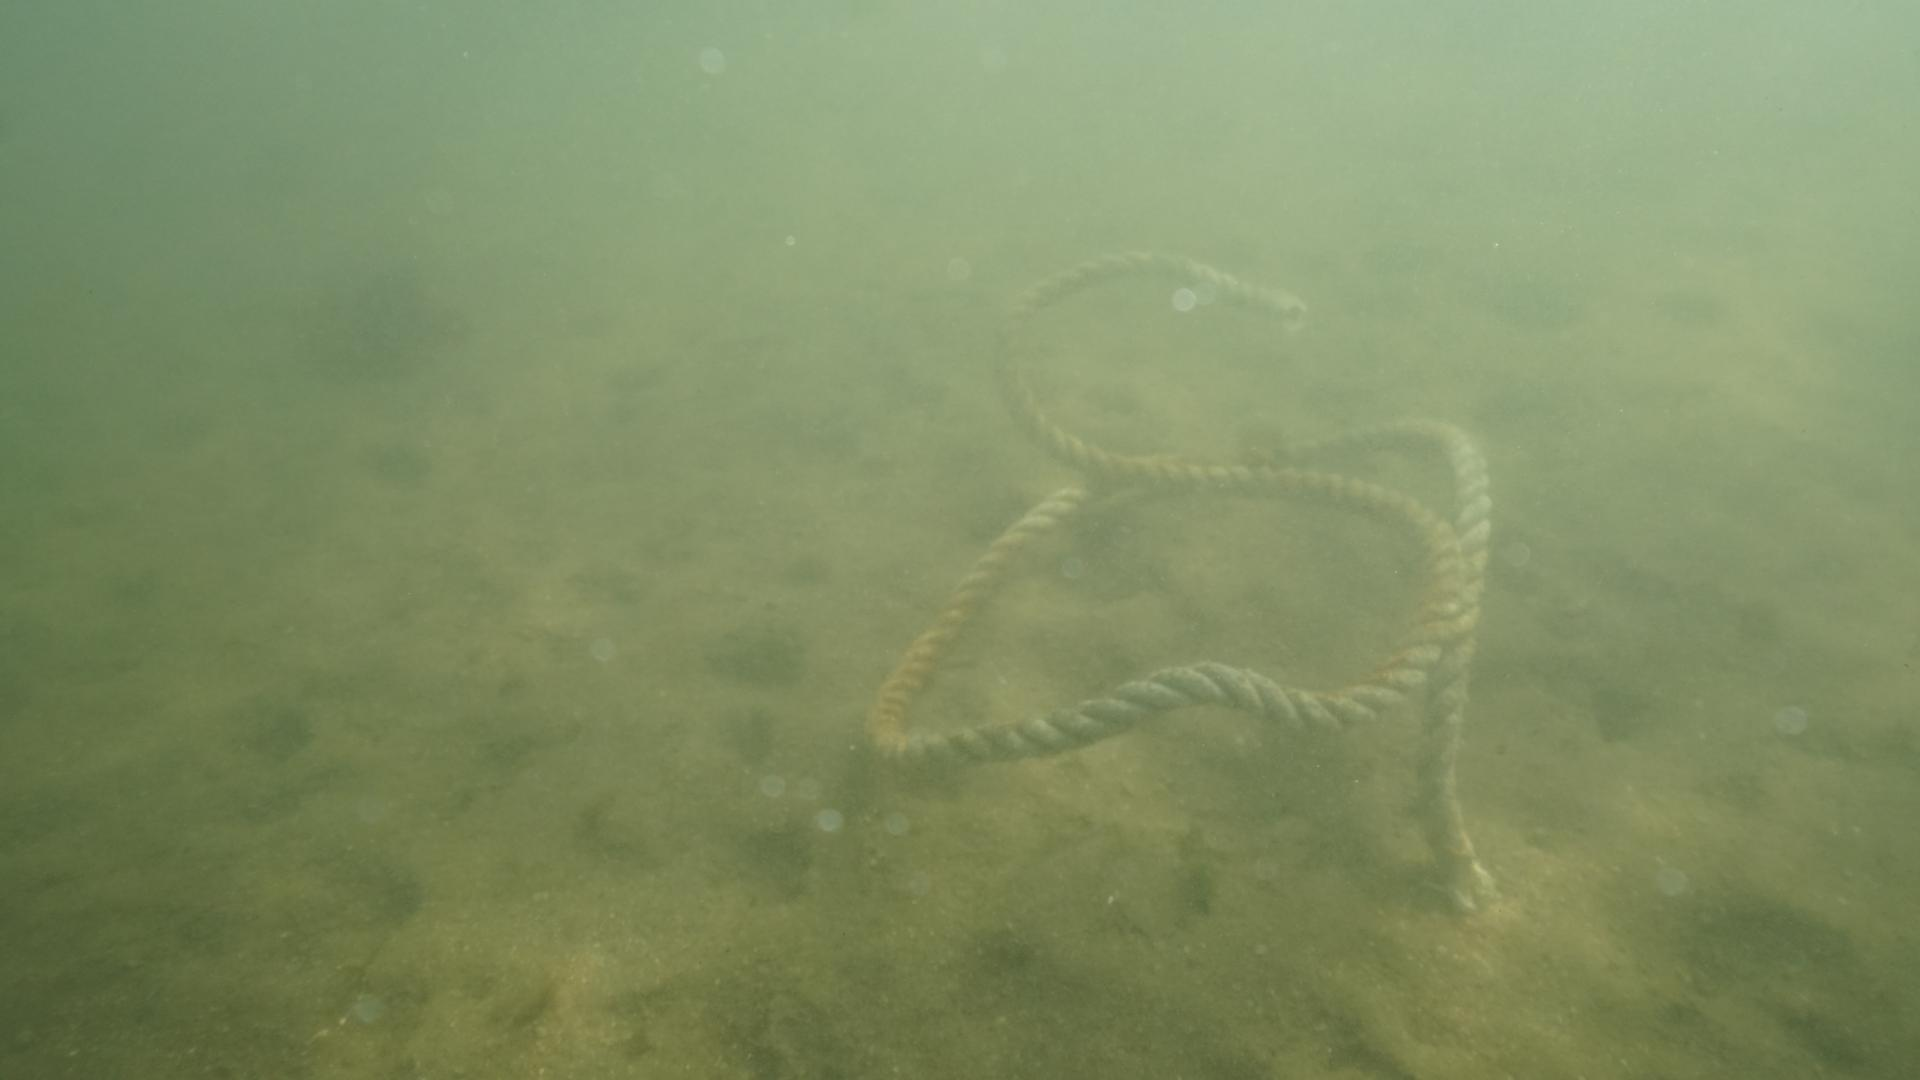bundle of ropes: (857, 245, 1501, 913)
